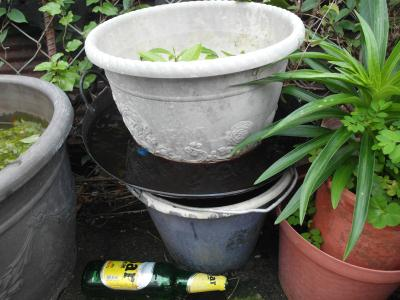bottle: (79, 256, 240, 299)
bowl: (81, 1, 314, 165)
bucket: (124, 165, 300, 276)
